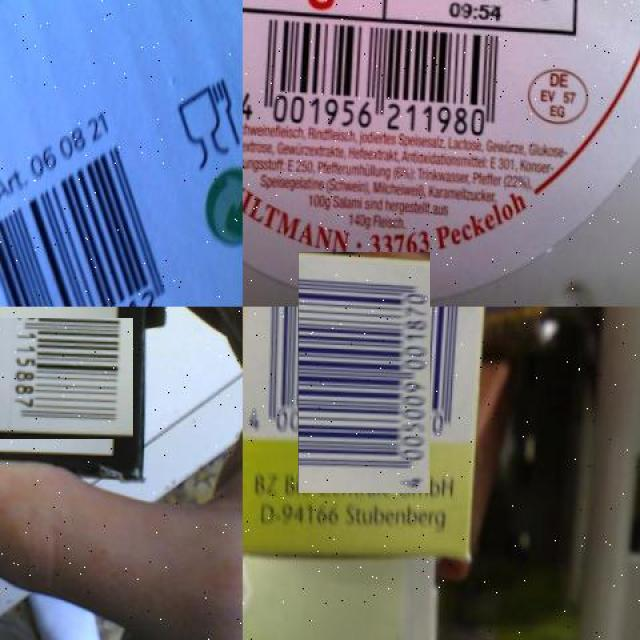Barcode: (0, 117, 192, 307), (270, 279, 458, 466), (243, 11, 512, 140), (0, 312, 127, 445)
